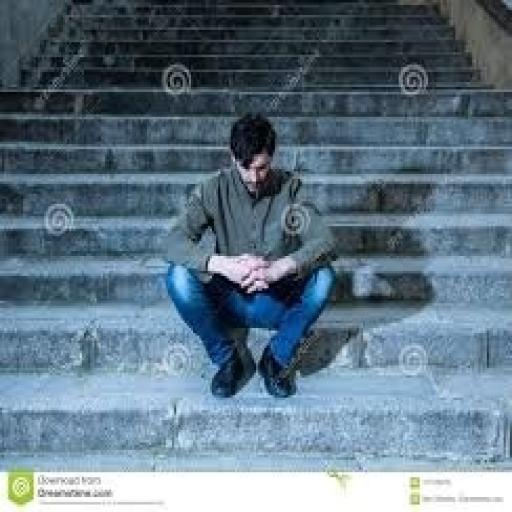sitting: (162, 110, 340, 400)
